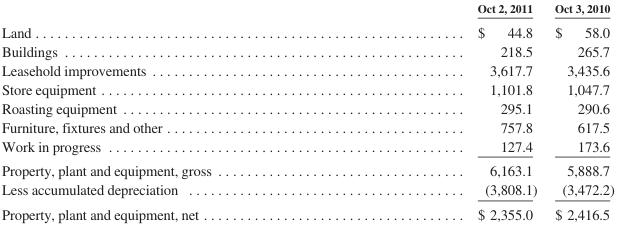table: (1, 0, 613, 222)
table column: (1, 0, 343, 222), (343, 0, 545, 222), (545, 0, 613, 222)
table column header: (1, 0, 613, 18)
table row: (1, 18, 613, 41), (1, 136, 613, 158), (1, 179, 613, 201), (1, 158, 613, 179), (1, 201, 613, 222), (1, 41, 613, 60), (1, 60, 613, 79), (1, 79, 613, 98), (1, 98, 613, 117), (1, 117, 613, 136), (1, 0, 613, 18)
